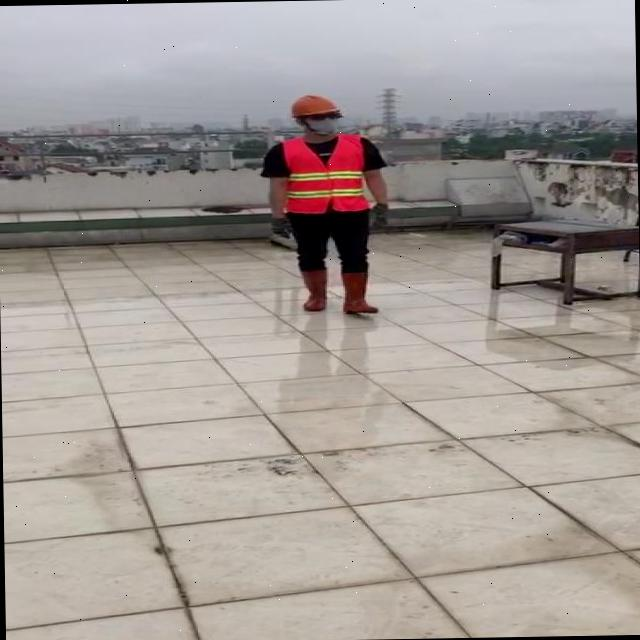boots: (338, 270, 377, 314), (298, 269, 328, 310)
